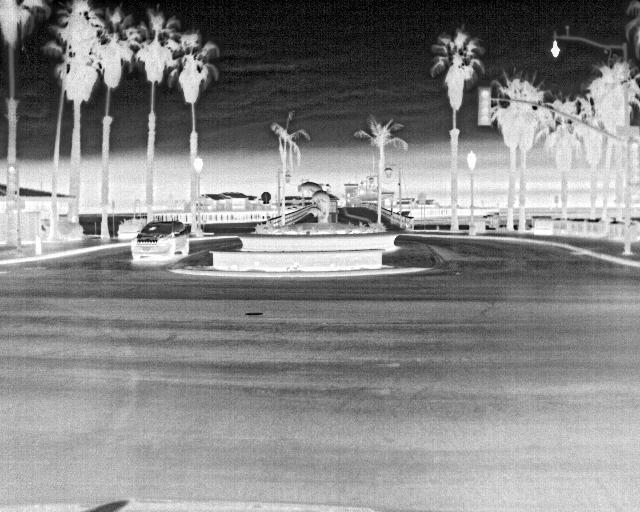car: (130, 219, 193, 261)
